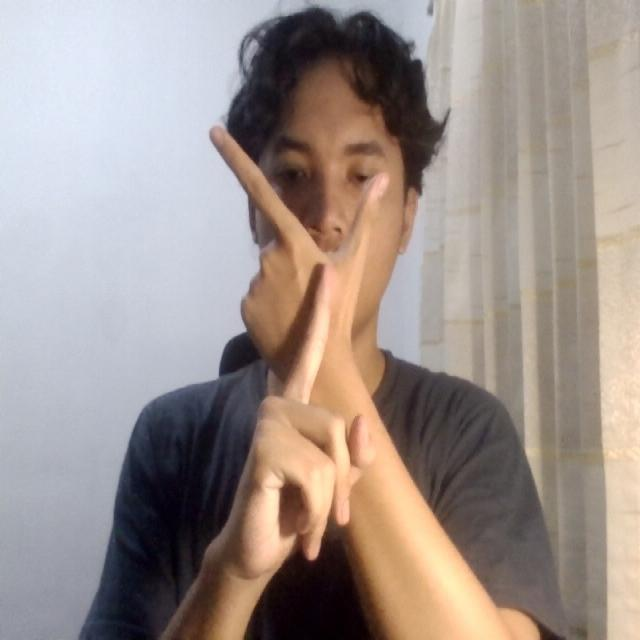No: (184, 108, 432, 585)
